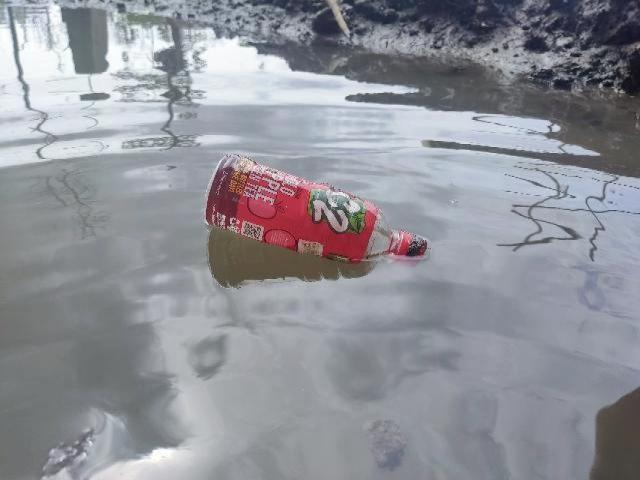Bottle: (196, 148, 437, 274)
